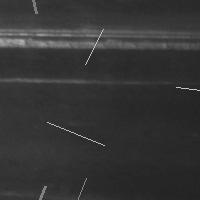scratches: (1, 25, 198, 50), (1, 71, 171, 87), (42, 117, 109, 150), (80, 24, 108, 69), (48, 173, 91, 200), (18, 181, 50, 200), (171, 82, 200, 101), (22, 0, 41, 18)
